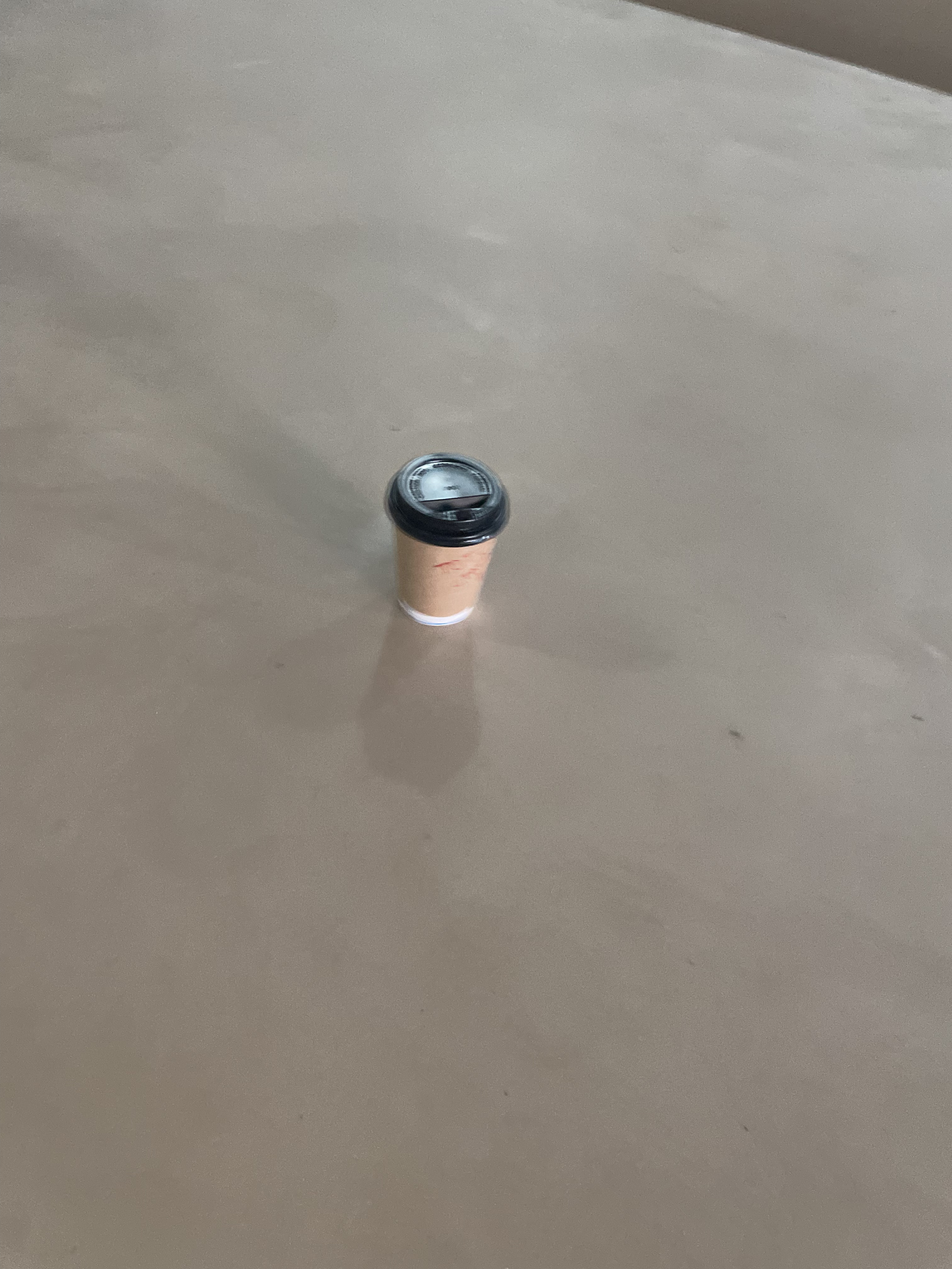cup: (385, 451, 509, 627)
